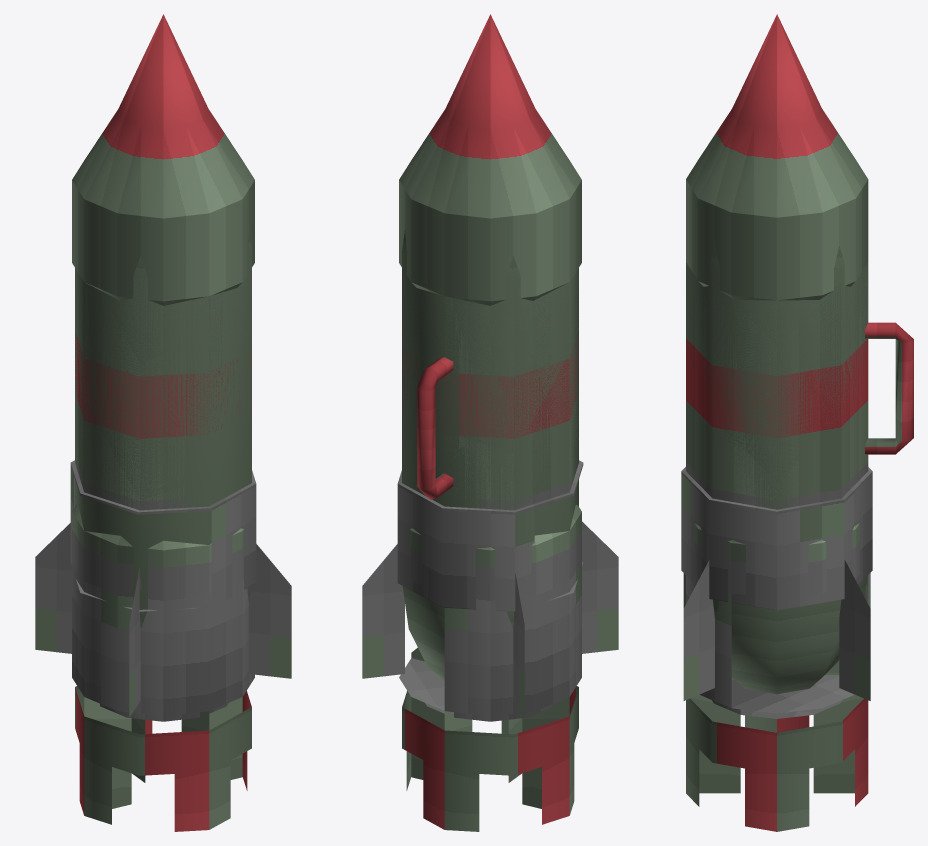
Rendered from projectiles.obj.
3 renders of one model, left to right at view 1: azimuth 30°, elevation 25°; view 2: azimuth 150°, elevation 25°; view 3: azimuth 270°, elevation 25°, orthographic.
Visible parts, largest first — view 1: MissileMIRV, Balefire, MiniMIRV; view 2: MissileMIRV, Balefire, MiniMIRV; view 3: MiniMIRV, Balefire, MissileMIRV.
Boxes of the visible parts, x1,y1,x2,y2 form: MissileMIRV: (35,14,291,721); Balefire: (75,230,251,831); MiniMIRV: (70,251,256,611); MissileMIRV: (362,14,618,721); Balefire: (402,230,578,831); MiniMIRV: (397,252,583,611); MiniMIRV: (681,262,913,610); Balefire: (686,245,868,831); MissileMIRV: (683,14,870,718).
Bounding box in the file's own units: 0.5976 × 2.36 × 0.6738.
